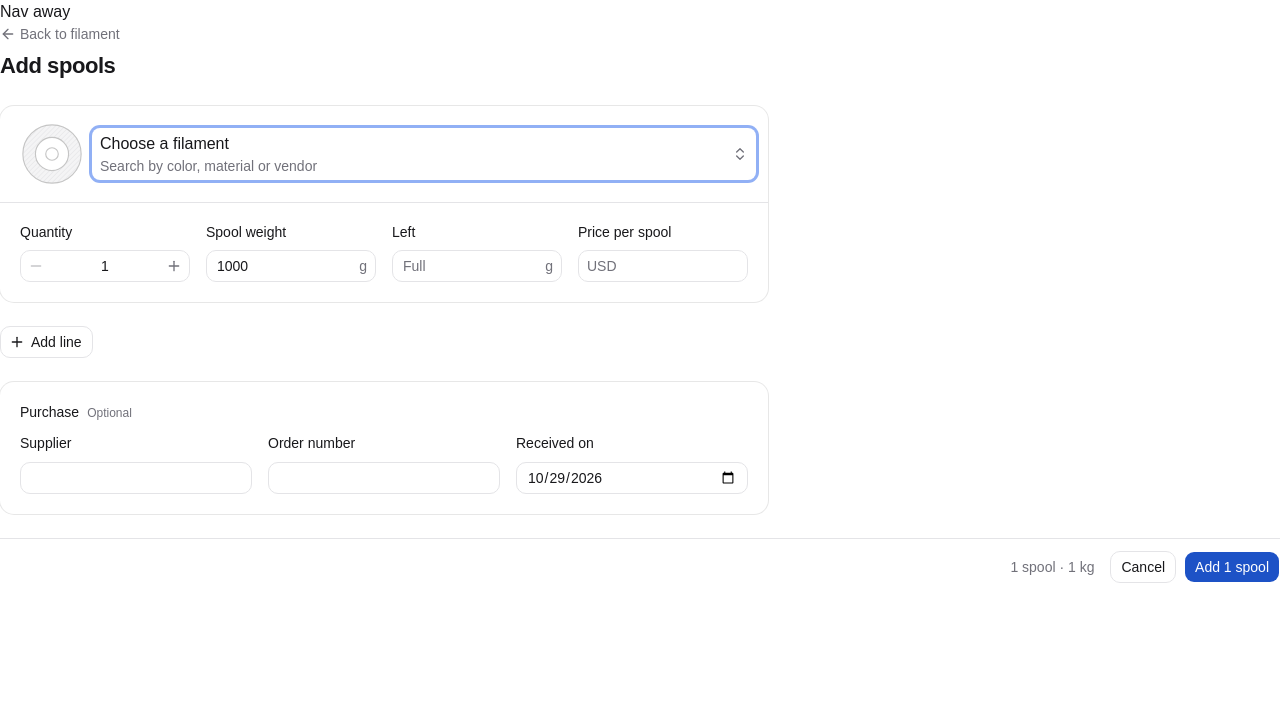
Test: SpoolFormPage › adds one spool for the chosen color, shows a toast, and opens its filament's spools
Click the dropdown labelled "Choose a filament Search by color, material or vendor" at (164,144), box [92,128,756,180]
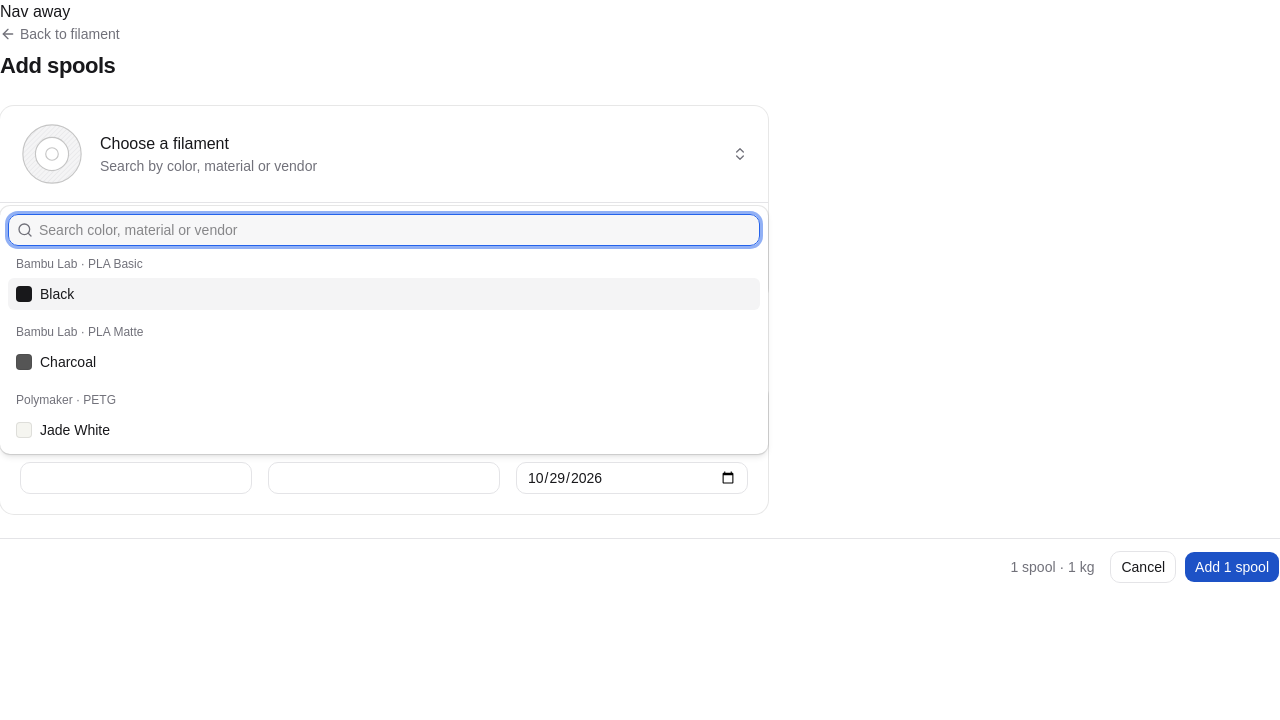
Click the option "Black" at (57,294), box [8,278,760,310]
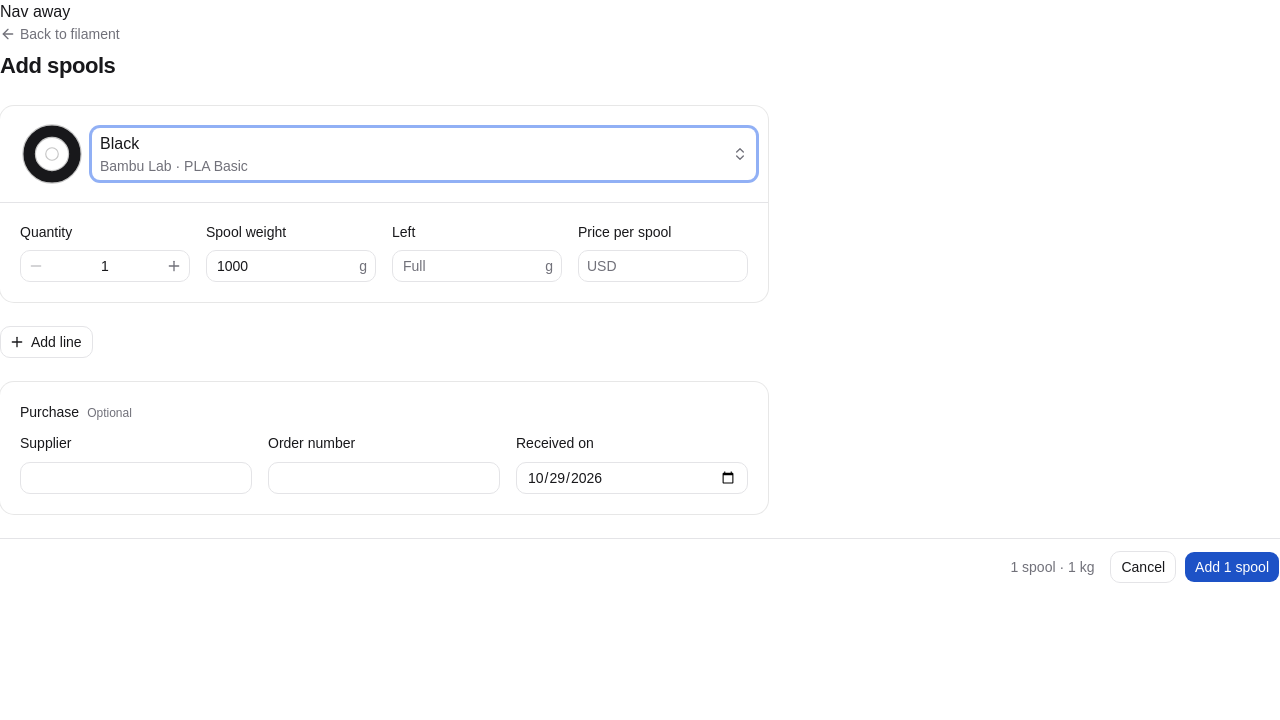
Click the button "Add 1 spool" at (1232,566), box [1184,550,1279,582]
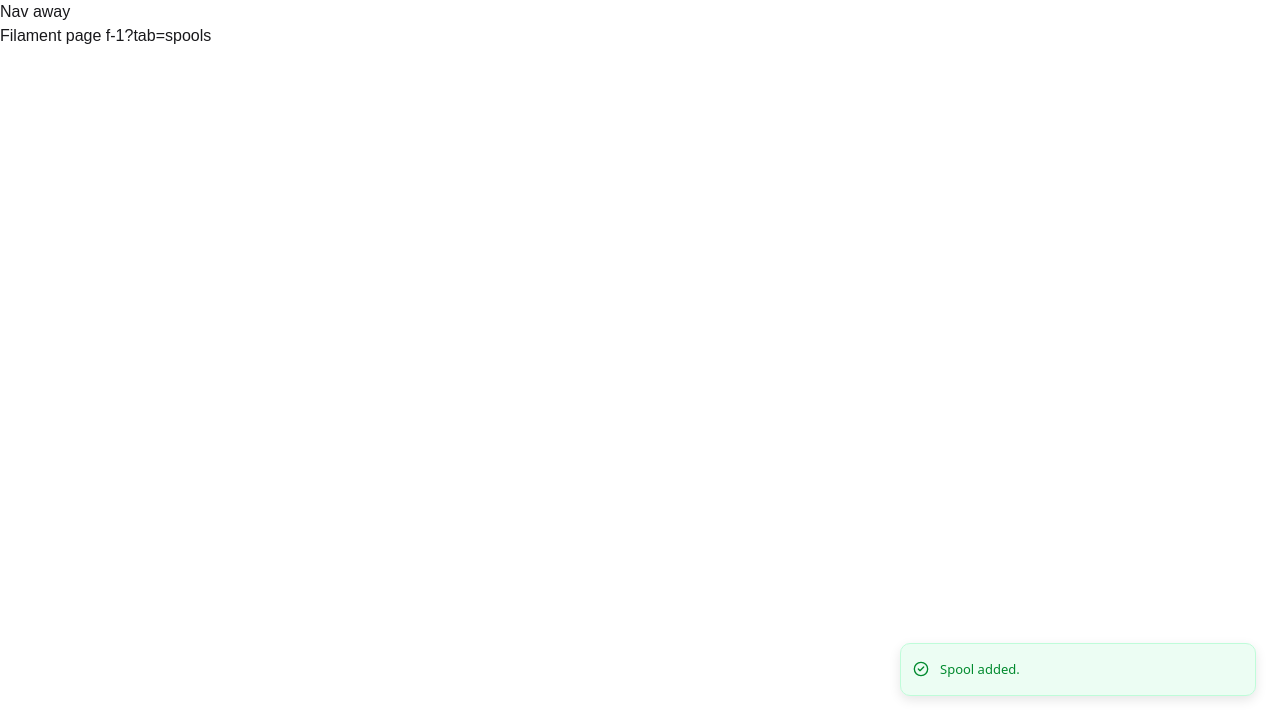
expect the text "Spool added." is shown: met, box [940,660,1020,679]
expect the text "Filament page f-1?tab=spools" is shown: met, box [0,27,211,44]
